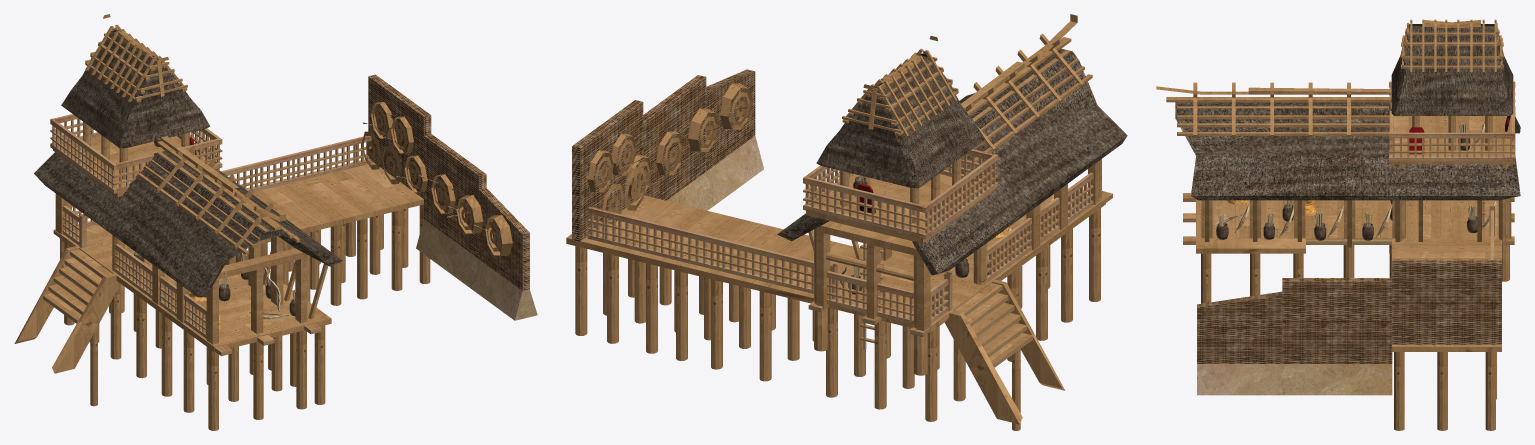
The model's file is yayoi_range.dae.
3 views of the same model, side by side, from view 1: azimuth 30°, elevation 25°; view 2: azimuth 150°, elevation 25°; view 3: azimuth 270°, elevation 25° (orthographic). The views are drawn at different scales.
Parts seen in each view (by area): view 1: range.003; view 2: range.003; view 3: range.003.
Boxes of the visible parts, x1,y1,x2,y2 form: range.003: [14, 14, 537, 430]; range.003: [566, 14, 1127, 430]; range.003: [1156, 19, 1520, 430].
Size of the model in its own units: 27.01 by 22.34 by 22.02.
